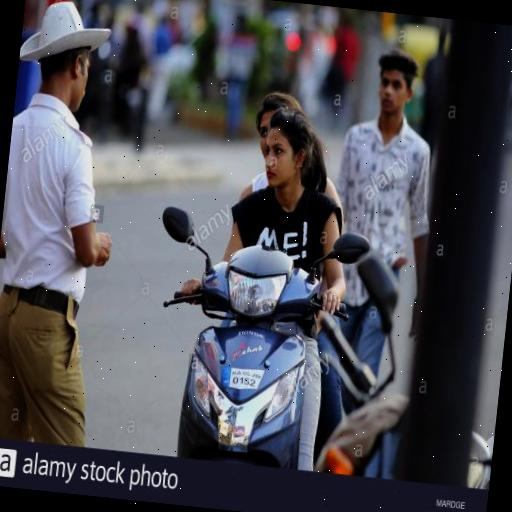no helmet: (189, 101, 356, 482)
